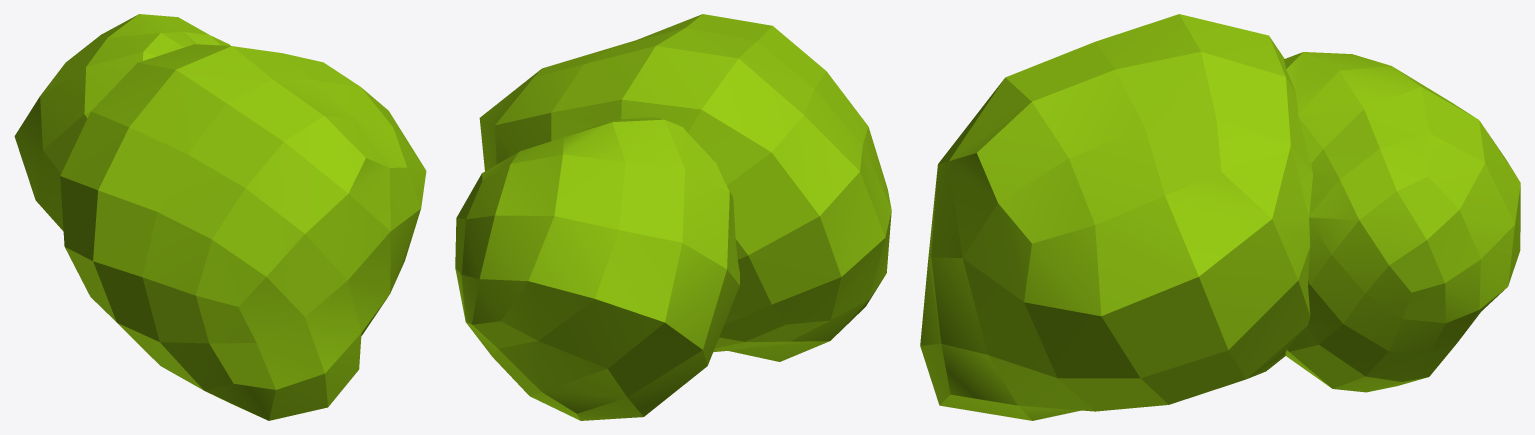
The model's file is tree_big_3_round.fbx.
3 renders of one model, left to right at view 1: azimuth 30°, elevation 25°; view 2: azimuth 150°, elevation 25°; view 3: azimuth 270°, elevation 25°, orthographic. The views are drawn at different scales.
Parts seen in each view (by area): view 1: tree_big_3_round; view 2: tree_big_3_round; view 3: tree_big_3_round.
Boxes of the visible parts, x1,y1,x2,y2 form: tree_big_3_round: (14, 14, 426, 420); tree_big_3_round: (455, 14, 891, 420); tree_big_3_round: (920, 14, 1520, 420).
Size of the model in its own units: 138 by 124 by 175.
